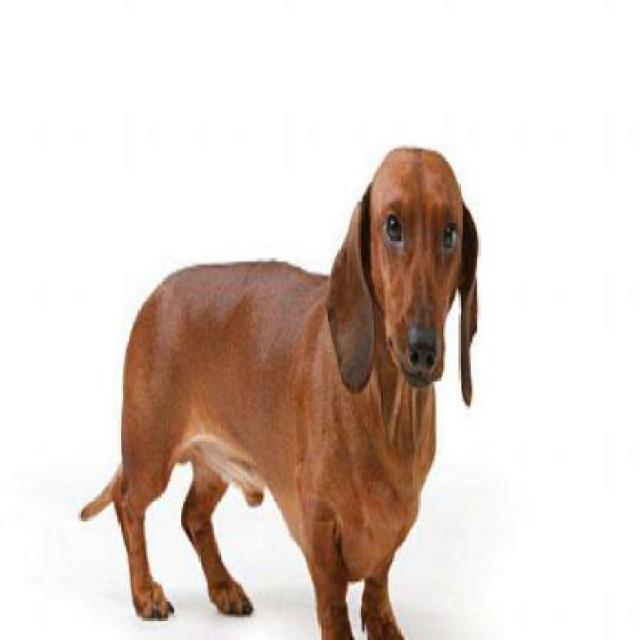Dog: (77, 138, 481, 638)
